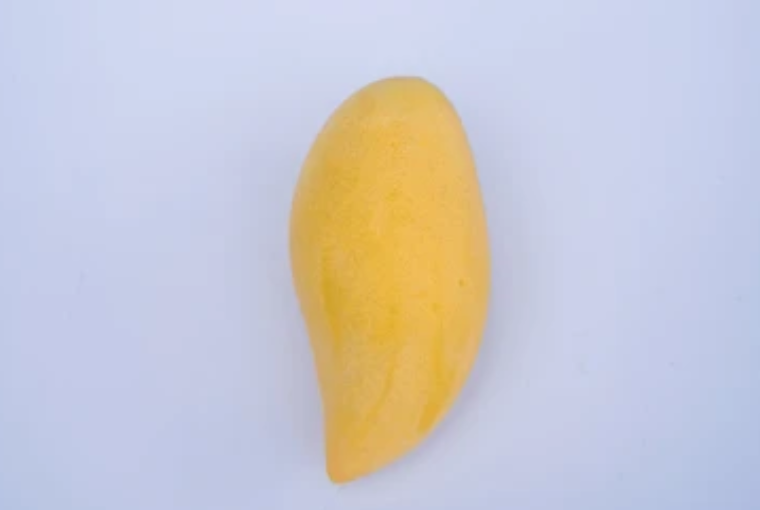mango: (289, 76, 491, 485)
